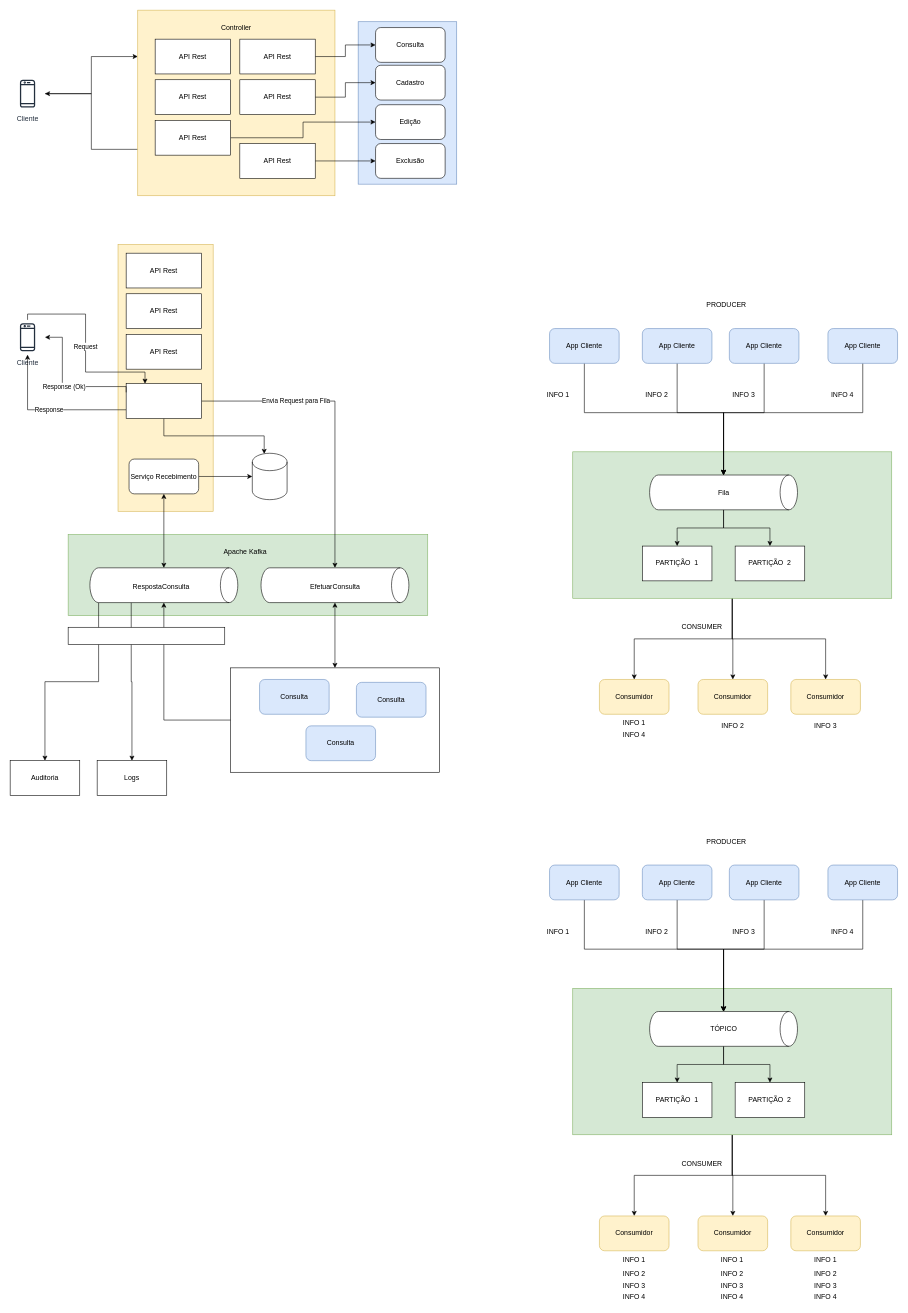
Some shapes in this 908 by 1313 pixel diagram are drawn without their labels. The centre of each missing label's shape, as x and y in pixels:
"API Rest Consulta" goes at (164,400).
"Cache Redis" goes at (269,476).
"TOPICO" goes at (146,636).
